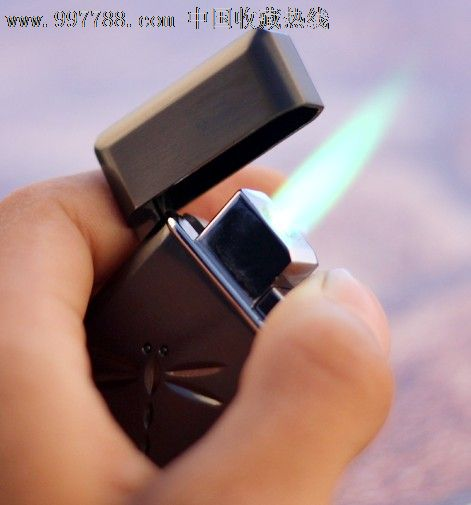fire: (278, 97, 406, 265)
